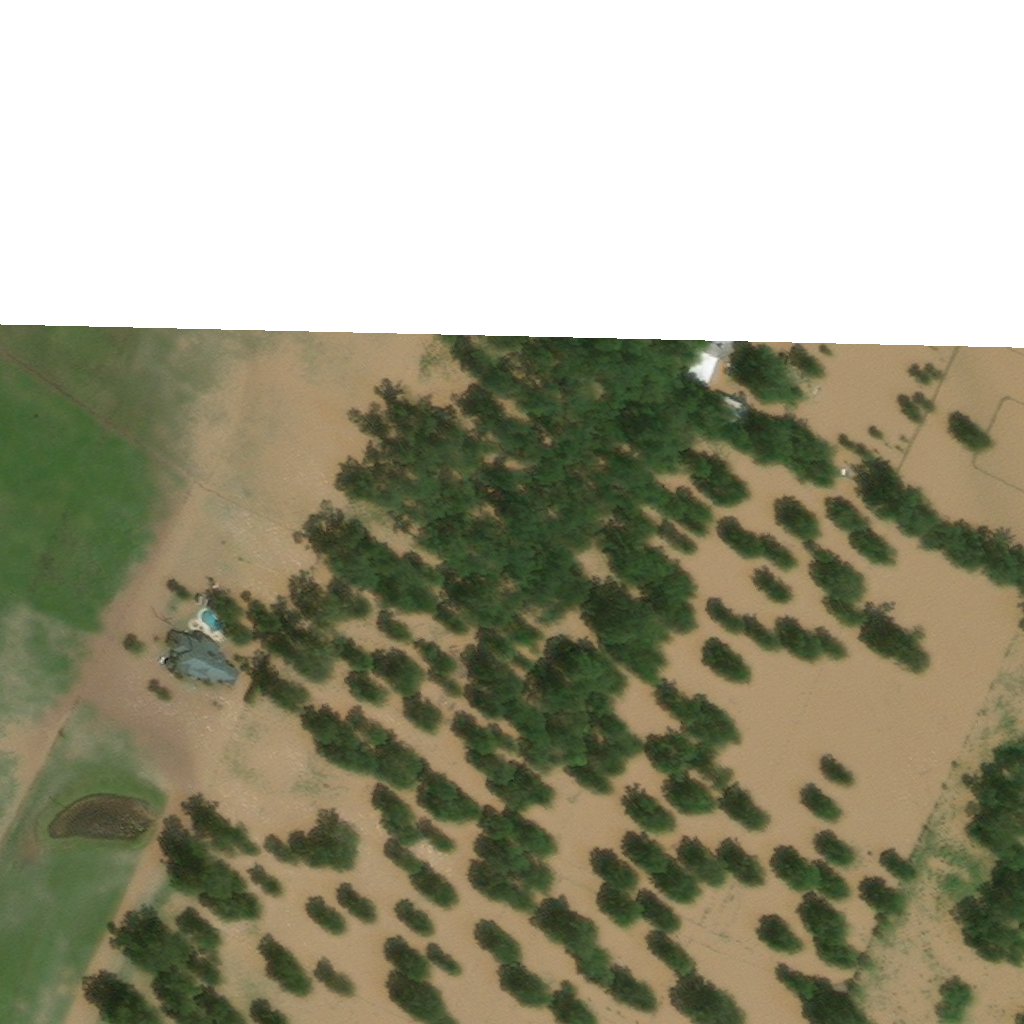major_damage: (685, 349, 718, 387), (713, 393, 742, 428), (696, 336, 727, 357)
minor_damage: (168, 629, 243, 692)
